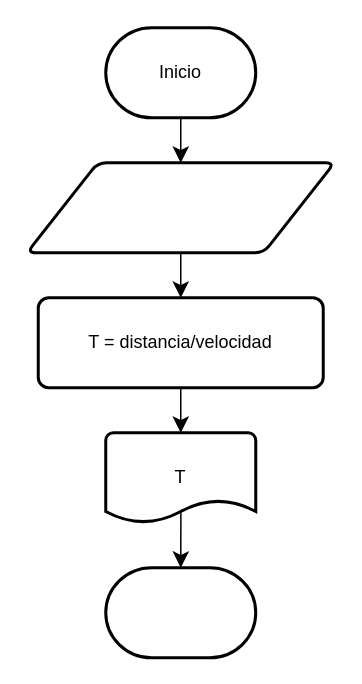
The diagram is 362 pixels wide and 684 high, and some of its shapes have lost their labels. The shapes that lost their labels are listed below. From the top down, each one's centre as x and y in pixels, then its label:
At (180,207): "Leer distancia, velocidad".
At (180,612): "Fin".
